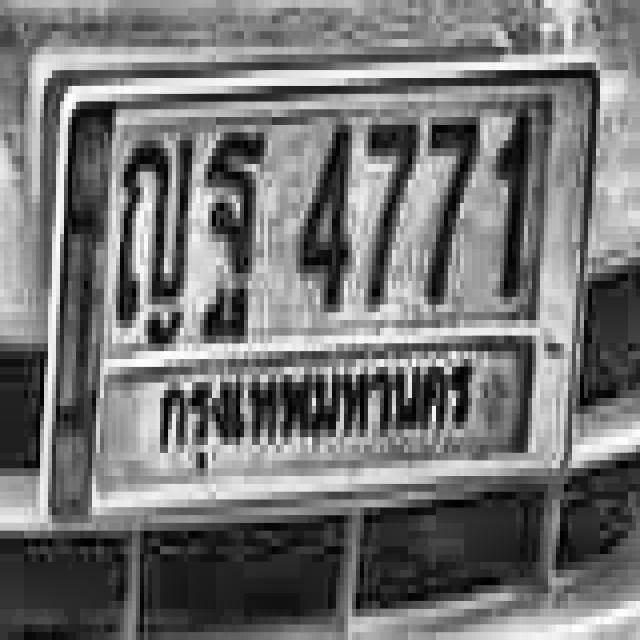license-plate: (38, 52, 600, 550)
